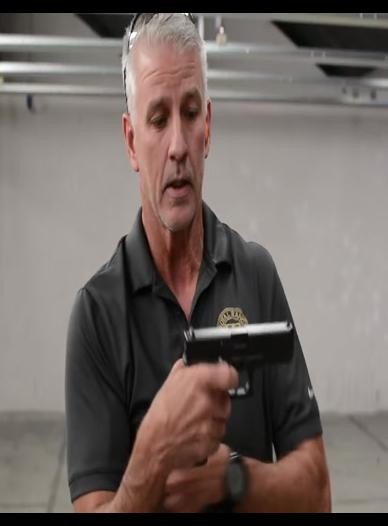pistol: (181, 315, 296, 459)
